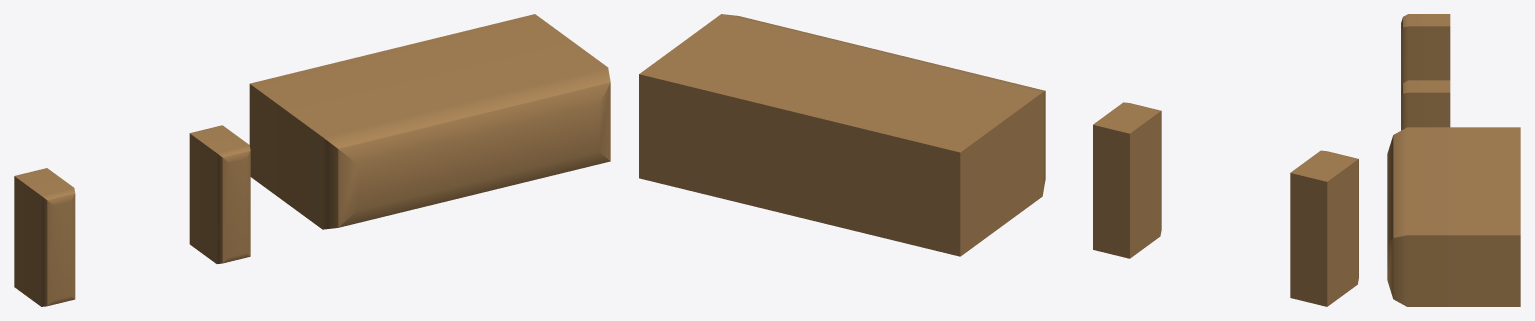
Rendered from SM_Security_MetalDecMisc_01.fbx.
3 views of the same model, side by side, from view 1: azimuth 30°, elevation 25°; view 2: azimuth 150°, elevation 25°; view 3: azimuth 270°, elevation 25° (orthographic). The views are drawn at different scales.
Visible parts, largest first — view 1: pCube5, pCube6, pCube7; view 2: pCube5, pCube6, pCube7; view 3: pCube5, pCube6, pCube7.
Boxes of the visible parts, x1,y1,x2,y2 form: pCube5: (249,14,610,229); pCube6: (14,168,75,306); pCube7: (189,125,250,263); pCube5: (639,14,1045,256); pCube6: (1290,150,1358,306); pCube7: (1093,102,1161,258); pCube5: (1387,127,1520,306); pCube6: (1401,14,1450,88); pCube7: (1401,80,1450,130).
Size of the model in its own units: 1.66 by 0.3106 by 0.4349.
